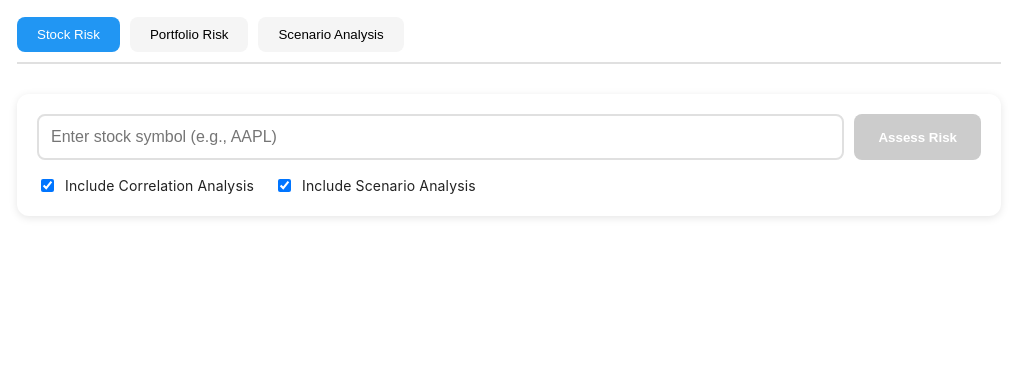
Test: RiskAssessment Component › Portfolio Risk Assessment Mode › should add portfolio positions
The width and height of the screenshot is (1019, 371).
Click the button "Portfolio Risk". click: (189, 34)
box: [130,17,248,52]
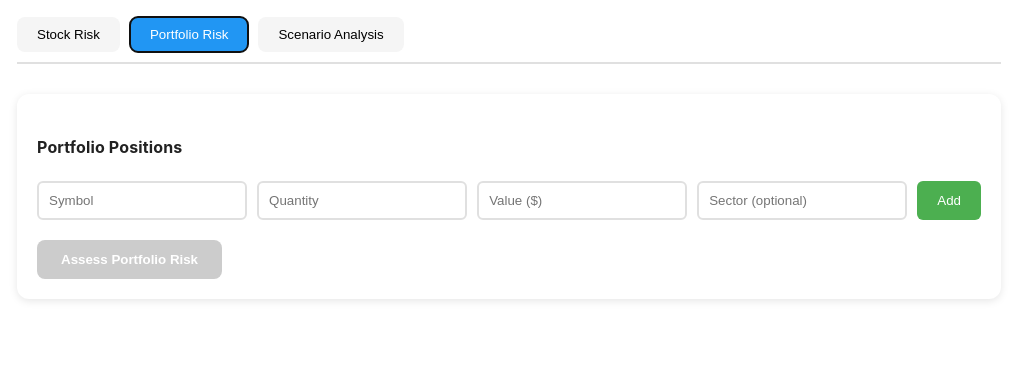
Add a position
Type "AAPL" into the field with placeholder "Symbol". click: (142, 200)
box: [37,180,247,220]
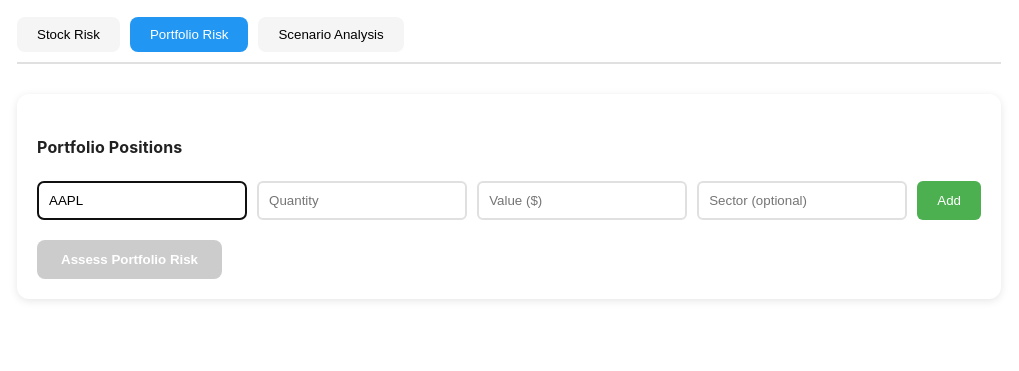
Type "100" into the number field with placeholder "Quantity". click: (362, 200)
box: [257,180,467,220]
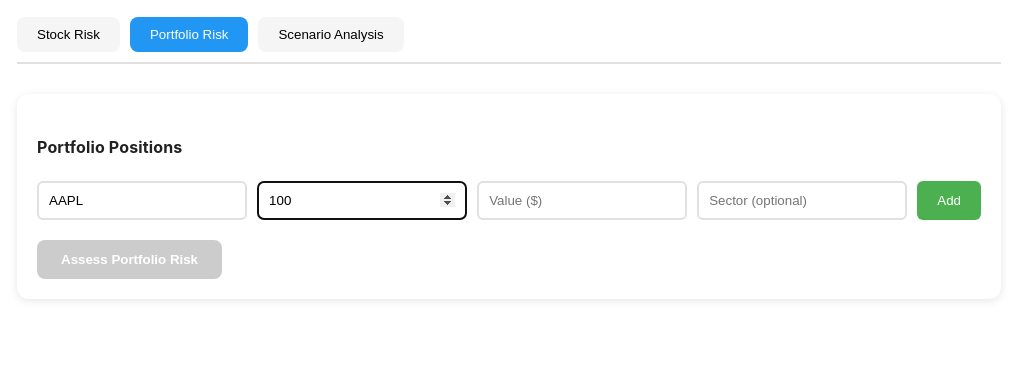
Type "15000" into the number field with placeholder "Value ($)". click: (582, 200)
box: [477,180,687,220]
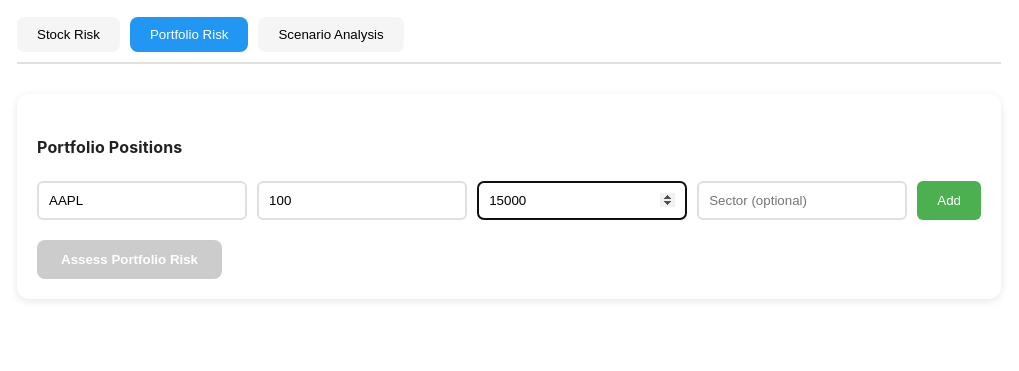
Type "Technology" into the field with placeholder "Sector (optional)". click: (802, 200)
box: [697,180,907,220]
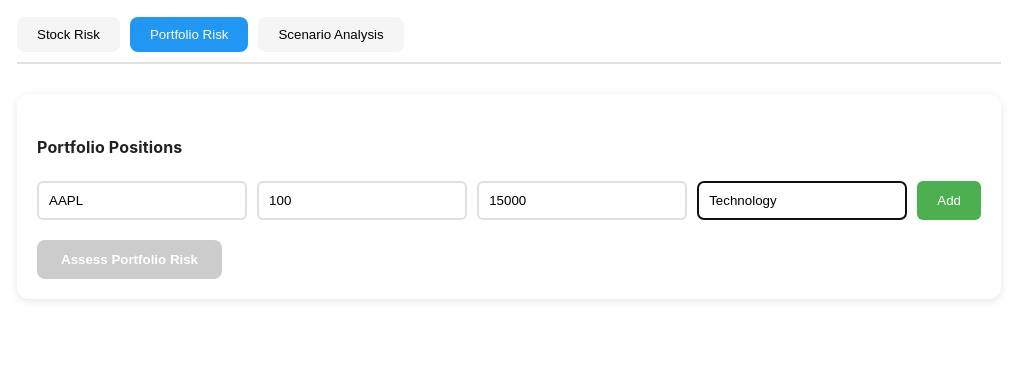
Click the button "Add". click: (949, 200)
box: [917,180,981,220]
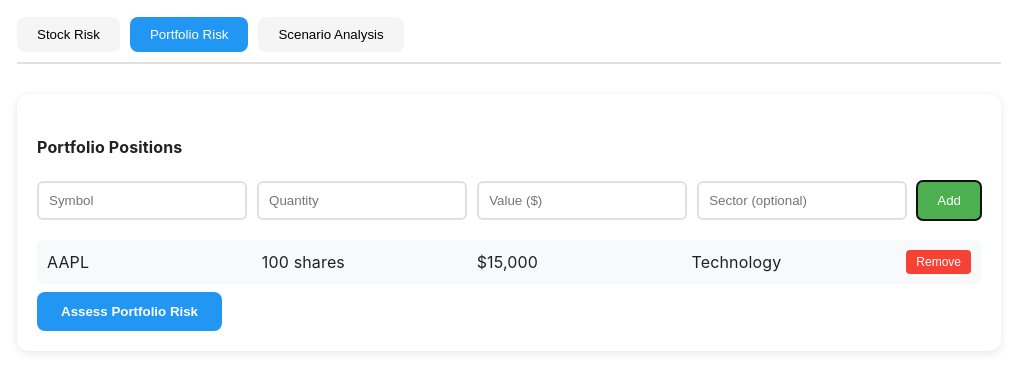
Result: the text "AAPL" is shown at [47,252,89,272]
Result: the text "100 shares" is shown at [262,252,345,272]
Result: the text "$15,000" is shown at [477,252,538,272]
